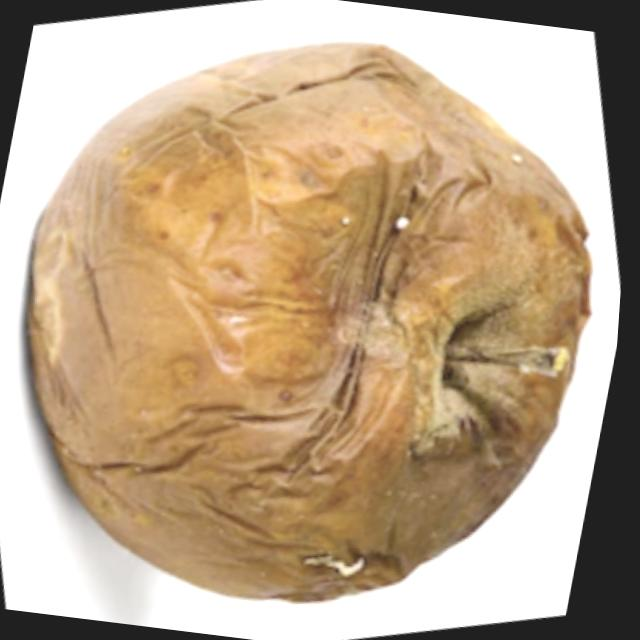organik: (0, 15, 639, 630)
